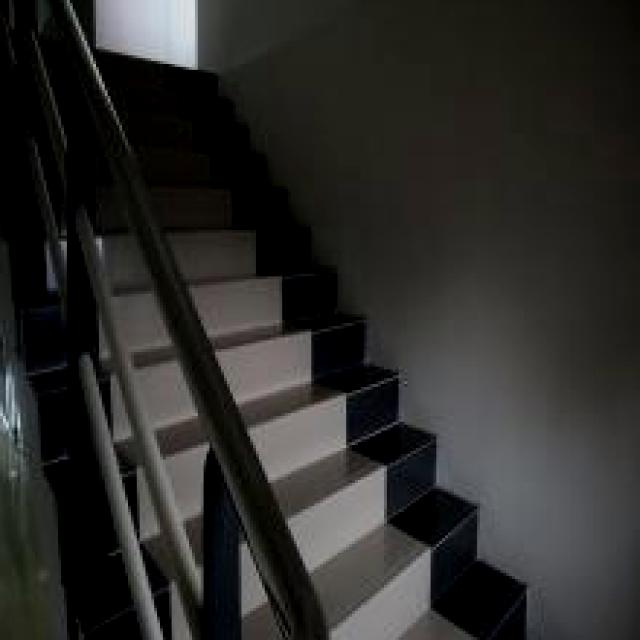upstair: (155, 129, 333, 405)
